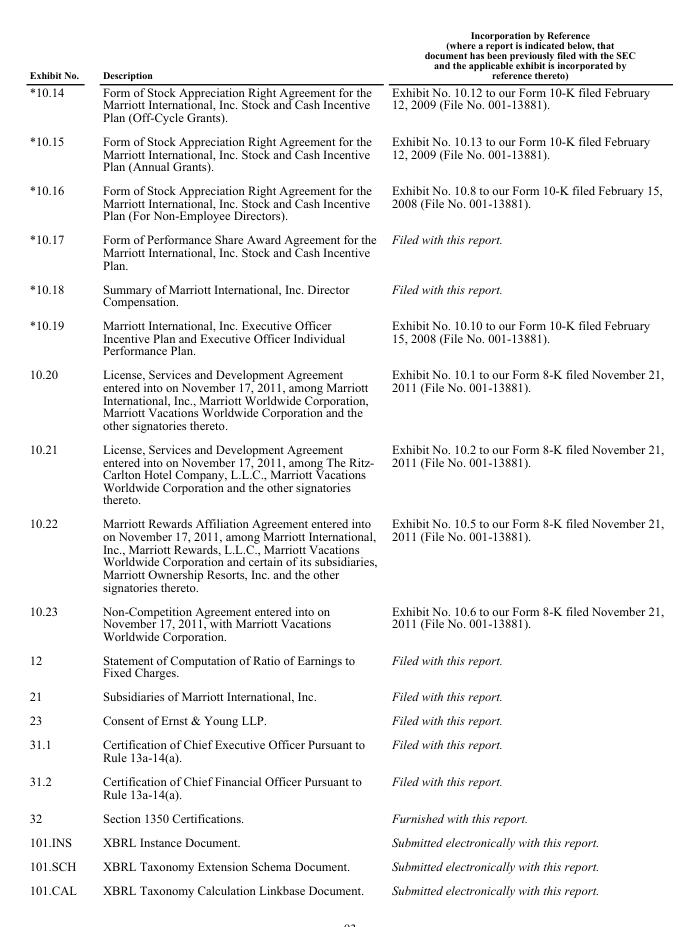table: (28, 28, 663, 896)
table column: (89, 28, 383, 896), (383, 28, 663, 896), (28, 28, 89, 896)
table column header: (28, 28, 663, 82)
table row: (28, 511, 663, 598), (28, 436, 663, 511), (28, 362, 663, 436), (28, 28, 663, 82), (28, 177, 663, 227), (28, 312, 663, 362), (28, 128, 663, 177), (28, 227, 663, 276), (28, 598, 663, 647), (28, 82, 663, 128), (28, 647, 663, 684), (28, 768, 663, 805), (28, 276, 663, 312), (28, 732, 663, 768), (28, 684, 663, 708), (28, 708, 663, 732), (28, 805, 663, 829), (28, 829, 663, 853), (28, 853, 663, 877), (28, 877, 663, 896)
